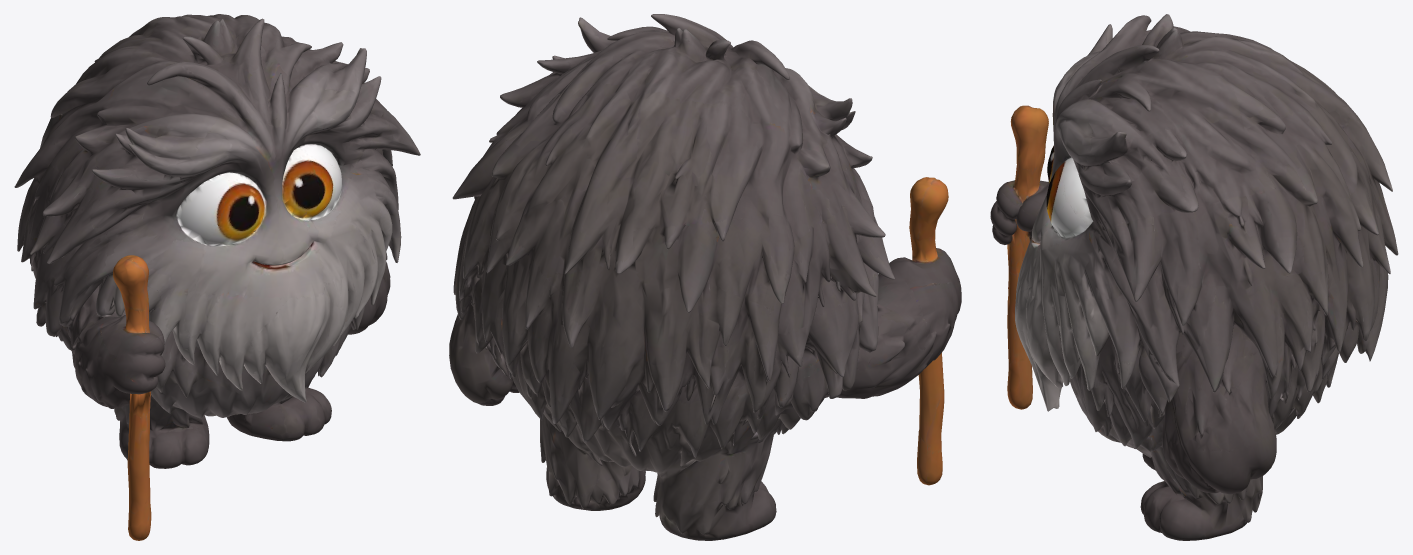
File: elder.glb
The picture shows the model from 3 angles, left to right: view 1: azimuth 30°, elevation 25°; view 2: azimuth 150°, elevation 25°; view 3: azimuth 270°, elevation 25°; orthographic projection. The views are drawn at different scales.
Parts seen in each view (by area): view 1: mesh_0; view 2: mesh_0; view 3: mesh_0.
Part boxes in pixels (box(x1,y1,x2,y2)): mesh_0: box(14, 14, 420, 540); mesh_0: box(449, 14, 961, 540); mesh_0: box(990, 14, 1398, 540).
Size of the model in its own units: 1.73 by 1.9 by 1.53.
1 material, 1 textured.
